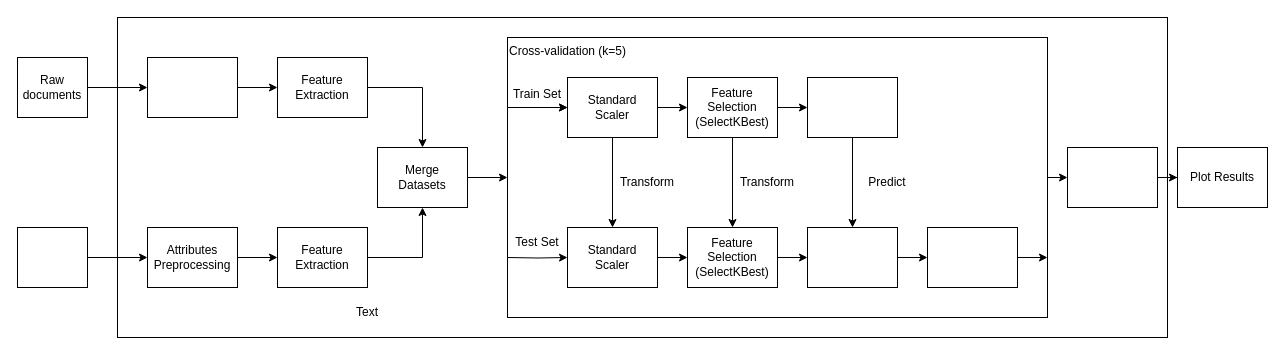
The diagram is 1285 pixels wide and 355 high, and some of its shapes have lost their labels. The shapes that lost their labels are listed below. From the top down, each one's centre as x and y in pixels, then its label:
At pixel 192 87: "Text Preprocessing".
At pixel 852 107: "Train Models".
At pixel 1112 177: "Agregate Metrics CrossValidation".
At pixel 52 257: "Attributes".
At pixel 852 257: "Test Models".
At pixel 972 257: "Calculate metrics".
